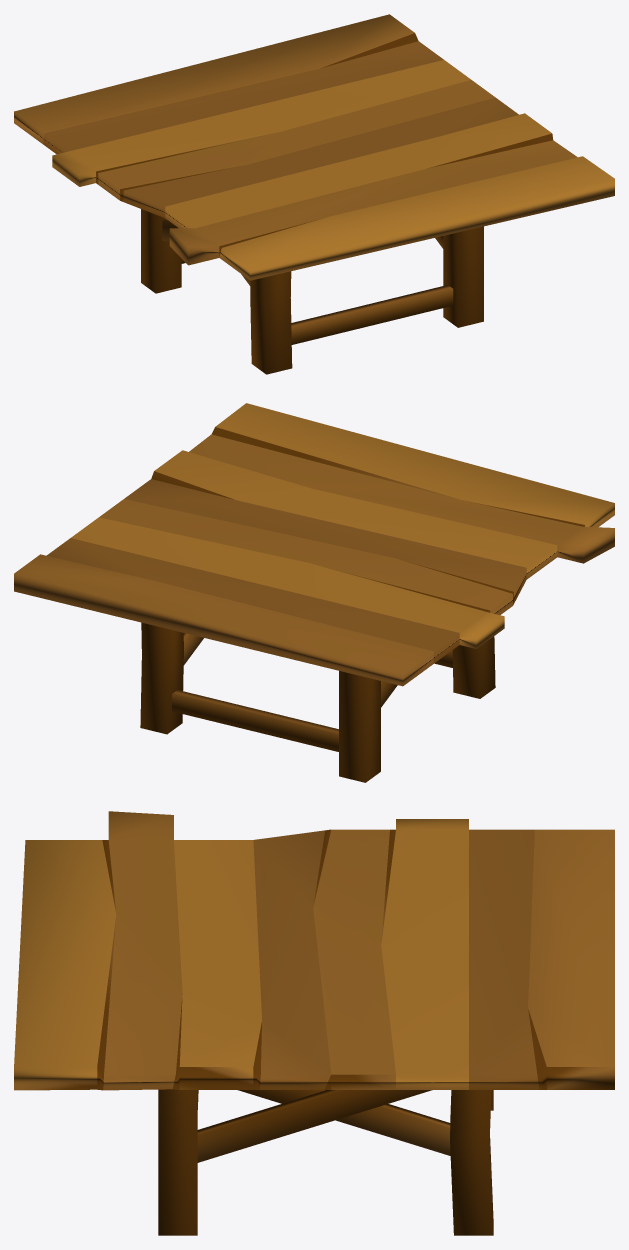
The model's file is platformTop.fbx.
The picture shows the model from 3 angles, top to bottom: view 1: azimuth 30°, elevation 25°; view 2: azimuth 150°, elevation 25°; view 3: azimuth 270°, elevation 25°; orthographic projection. The views are drawn at different scales.
Visible parts, largest first — view 1: platformTop; view 2: platformTop; view 3: platformTop.
Part boxes in pixels (x1,y1,x2,y2): platformTop: [14, 14, 614, 374]; platformTop: [14, 403, 614, 782]; platformTop: [14, 811, 614, 1235].
Bounding box in the file's own units: 410 × 164 × 406.
